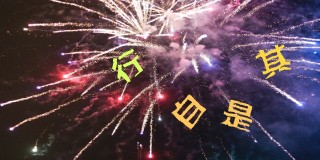其: (255, 44, 292, 78)
是: (220, 99, 253, 133)
自: (170, 93, 207, 129)
行: (110, 48, 143, 82)
